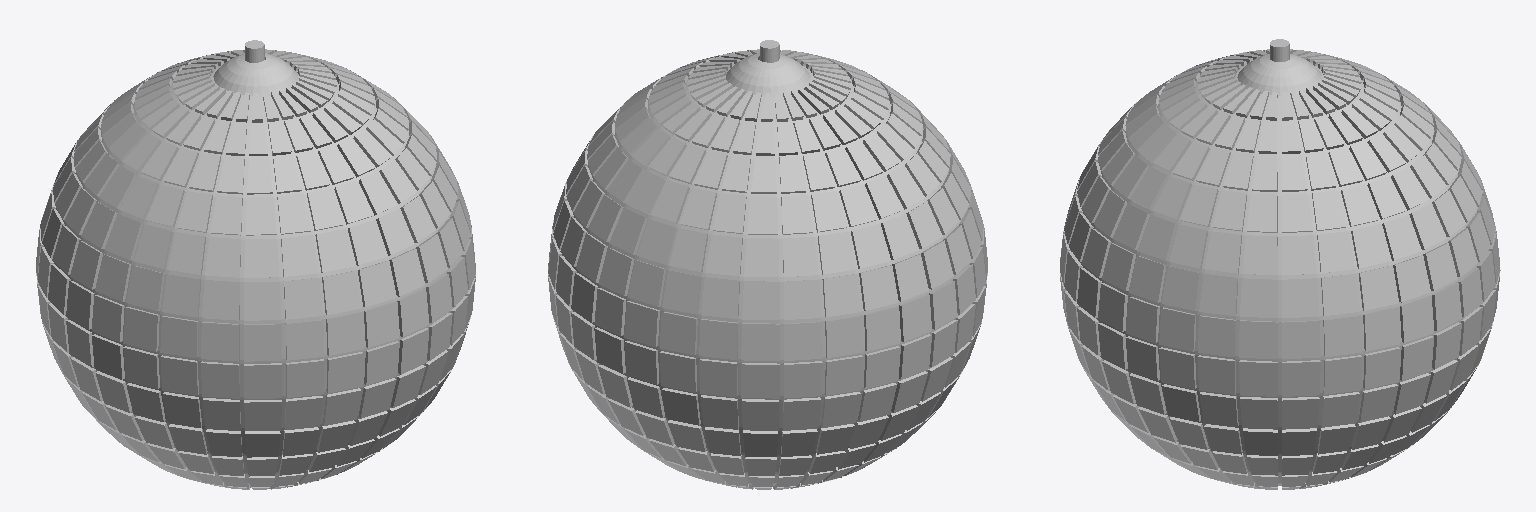
The model's file is ball.obj.
The picture shows the model from 3 angles: view 1: azimuth 30°, elevation 25°; view 2: azimuth 150°, elevation 25°; view 3: azimuth 270°, elevation 25°; orthographic projection.
Visible parts, largest first — view 1: polySurface35; view 2: polySurface35; view 3: polySurface35.
Boxes of the visible parts, x1,y1,x2,y2 form: polySurface35: [36, 40, 475, 489]; polySurface35: [548, 40, 987, 489]; polySurface35: [1060, 39, 1500, 489].
Bounding box in the file's own units: 3.7 × 3.92 × 3.7.